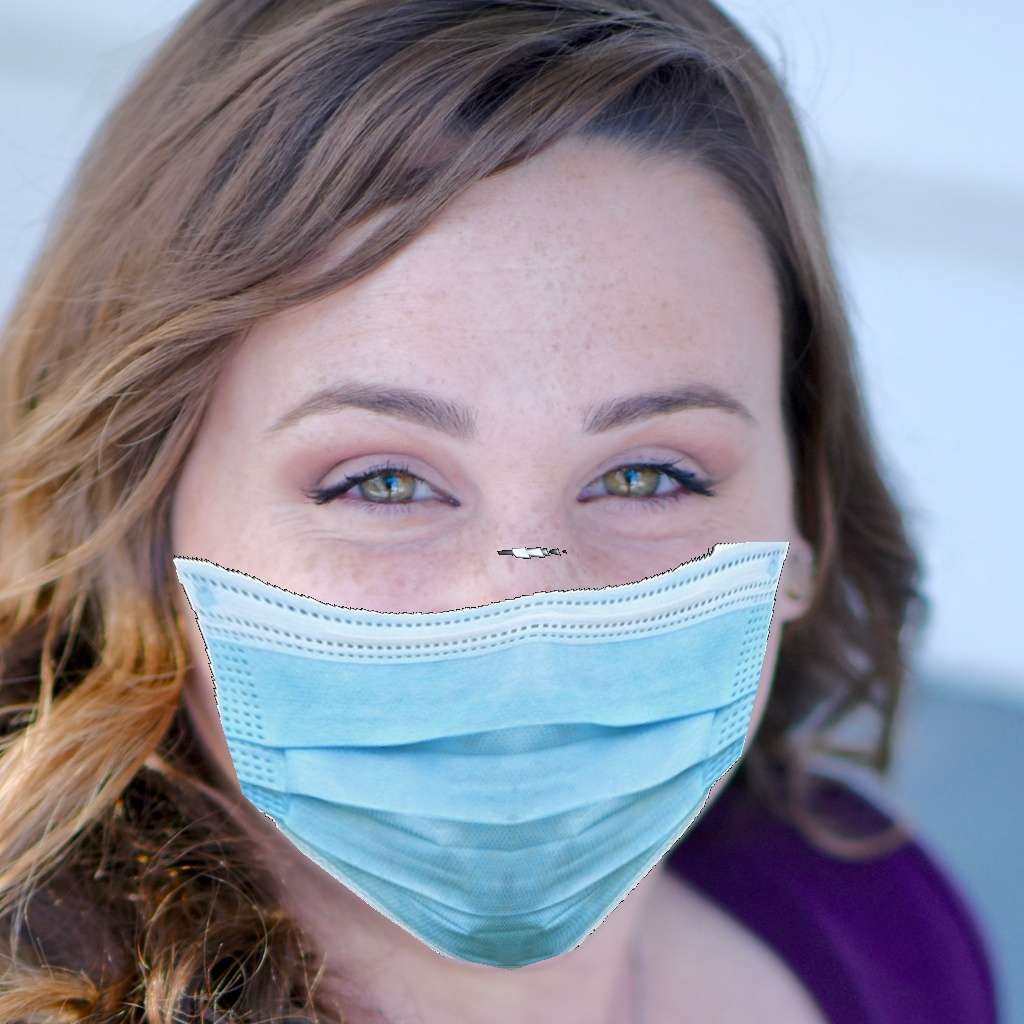Mask: (166, 330, 792, 977)
